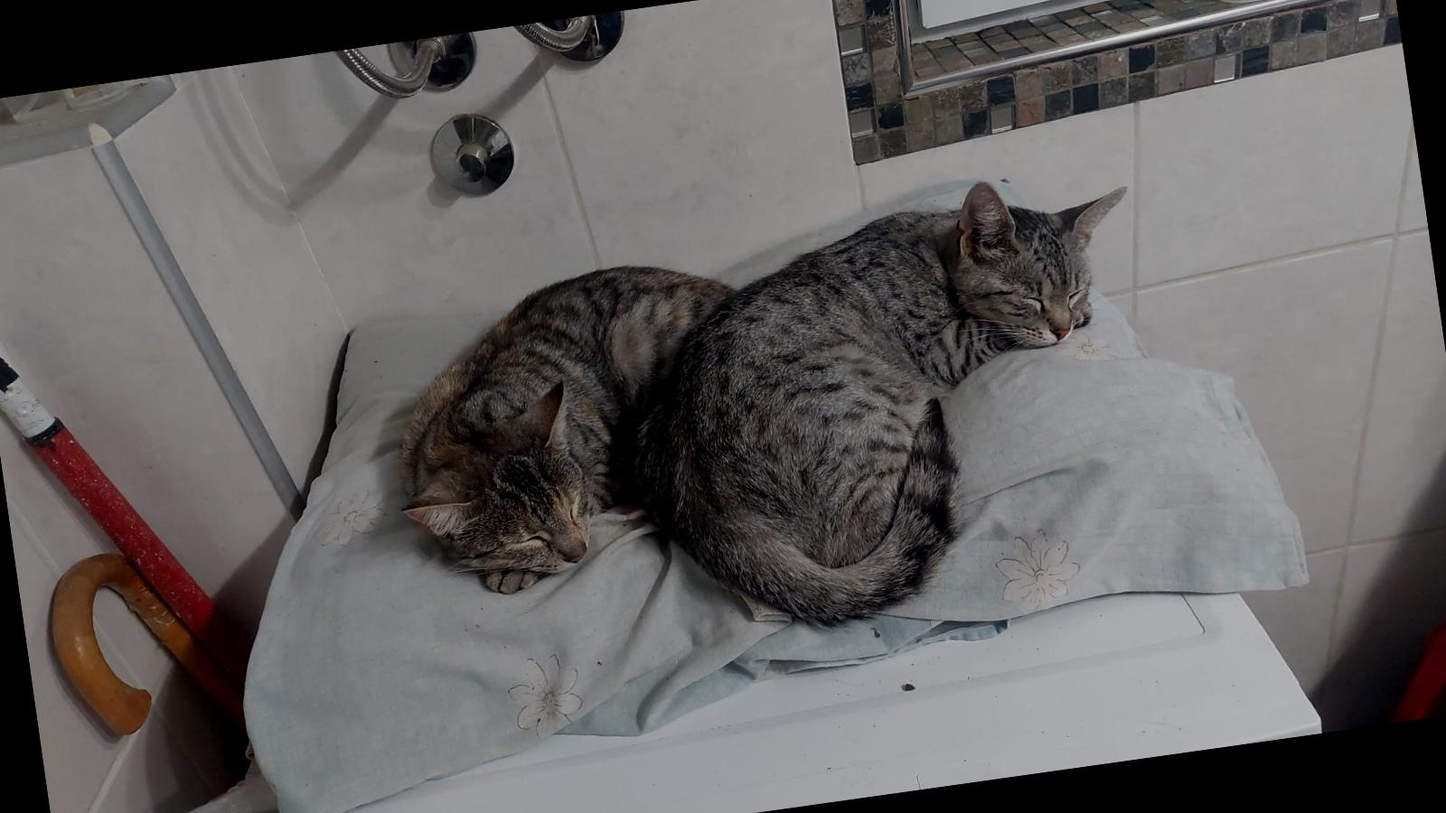macka: (600, 159, 1179, 648), (380, 249, 774, 610)
